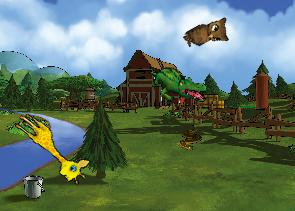crocodile: (147, 66, 207, 103)
giraffe: (5, 109, 95, 188)
owl: (181, 12, 235, 59)
